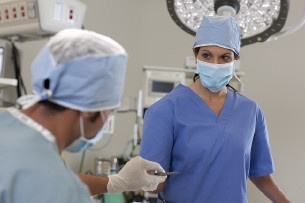Mask: (195, 46, 241, 93)
